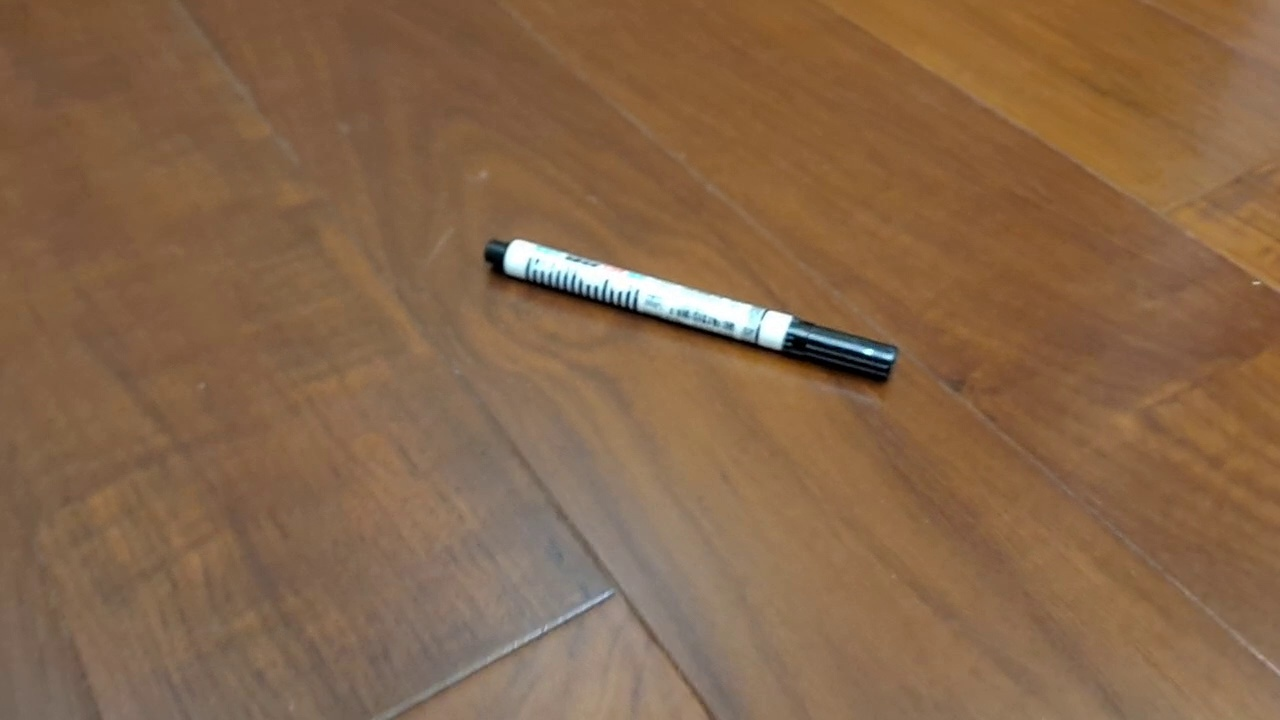pen: (483, 237, 900, 385)
